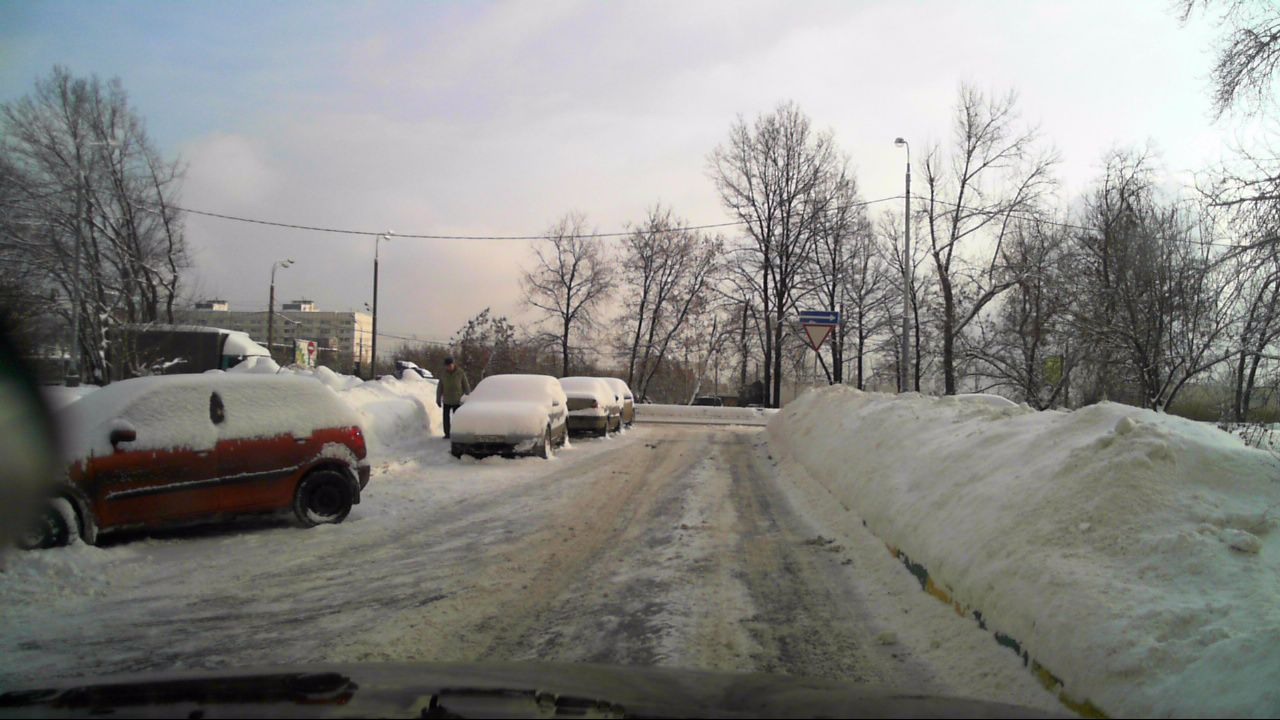One-Way Traffic: (800, 311, 838, 324)
